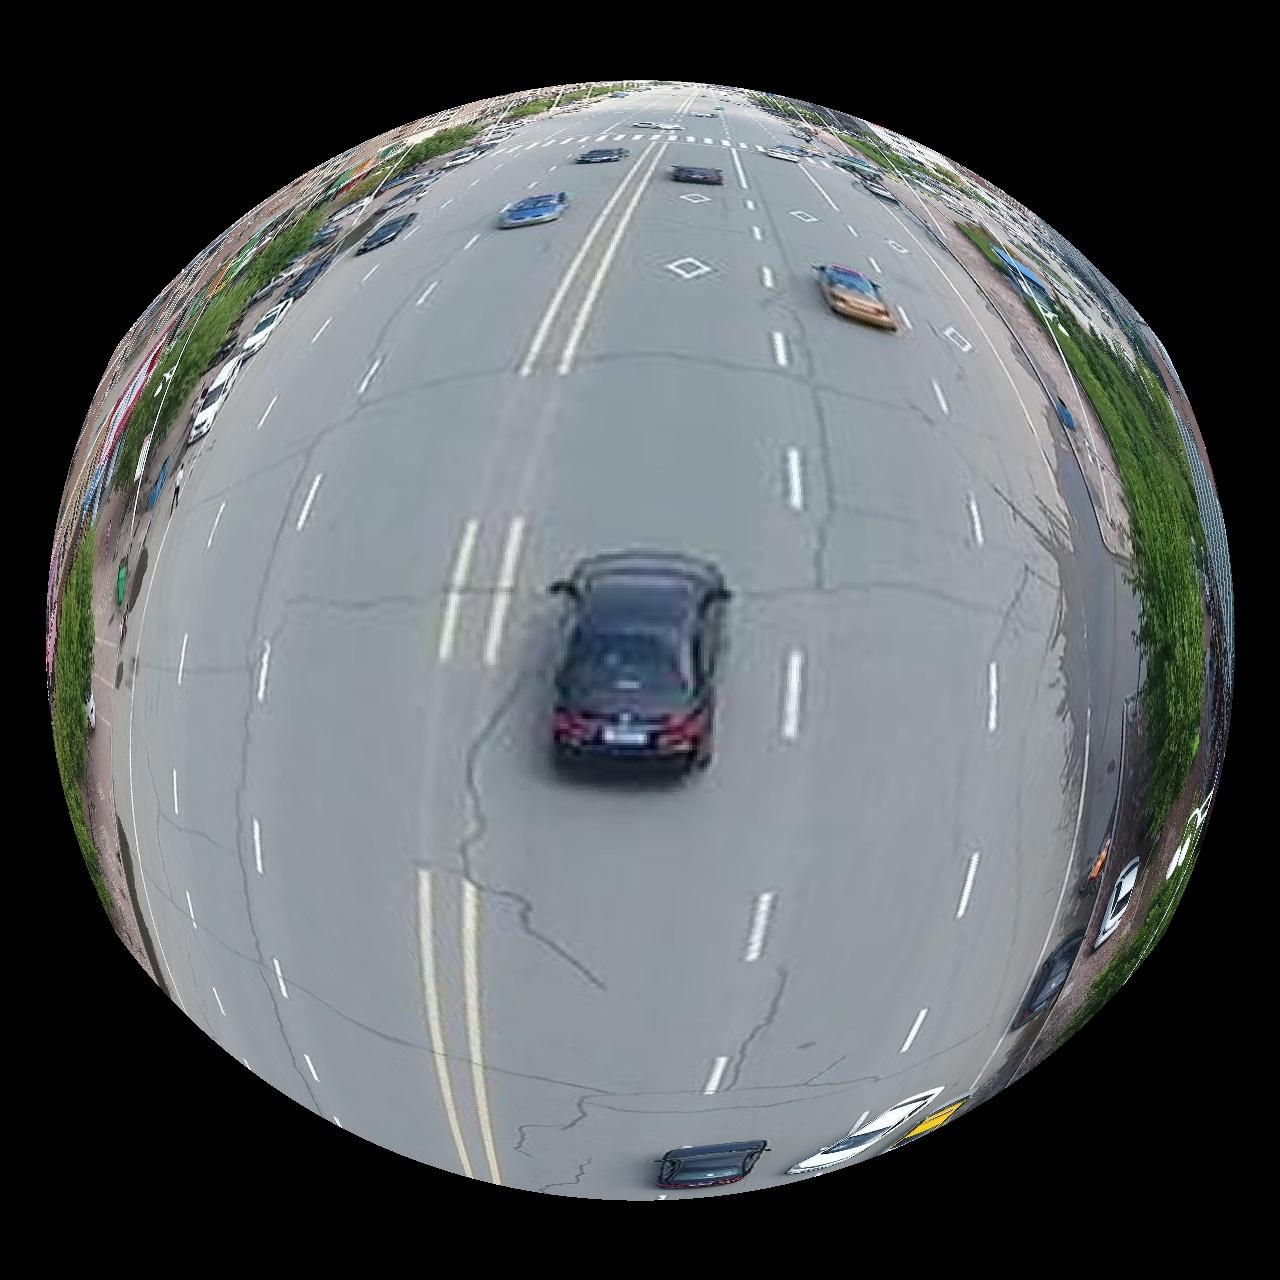cars: (549, 551, 731, 770), (1013, 930, 1085, 1030), (817, 263, 897, 329), (660, 1144, 769, 1191), (355, 211, 417, 253), (498, 192, 570, 227), (670, 164, 726, 184), (574, 147, 629, 163)
trees: (1049, 309, 1211, 836), (123, 207, 320, 483), (50, 527, 105, 900)
